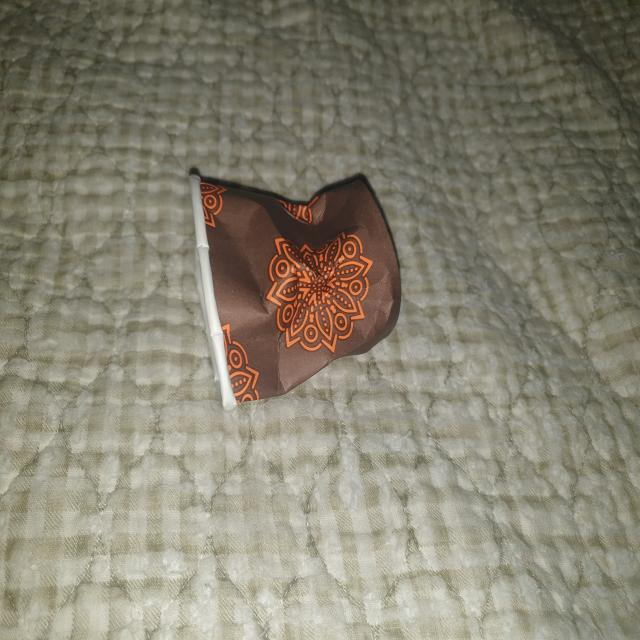cups: (175, 165, 405, 416)
